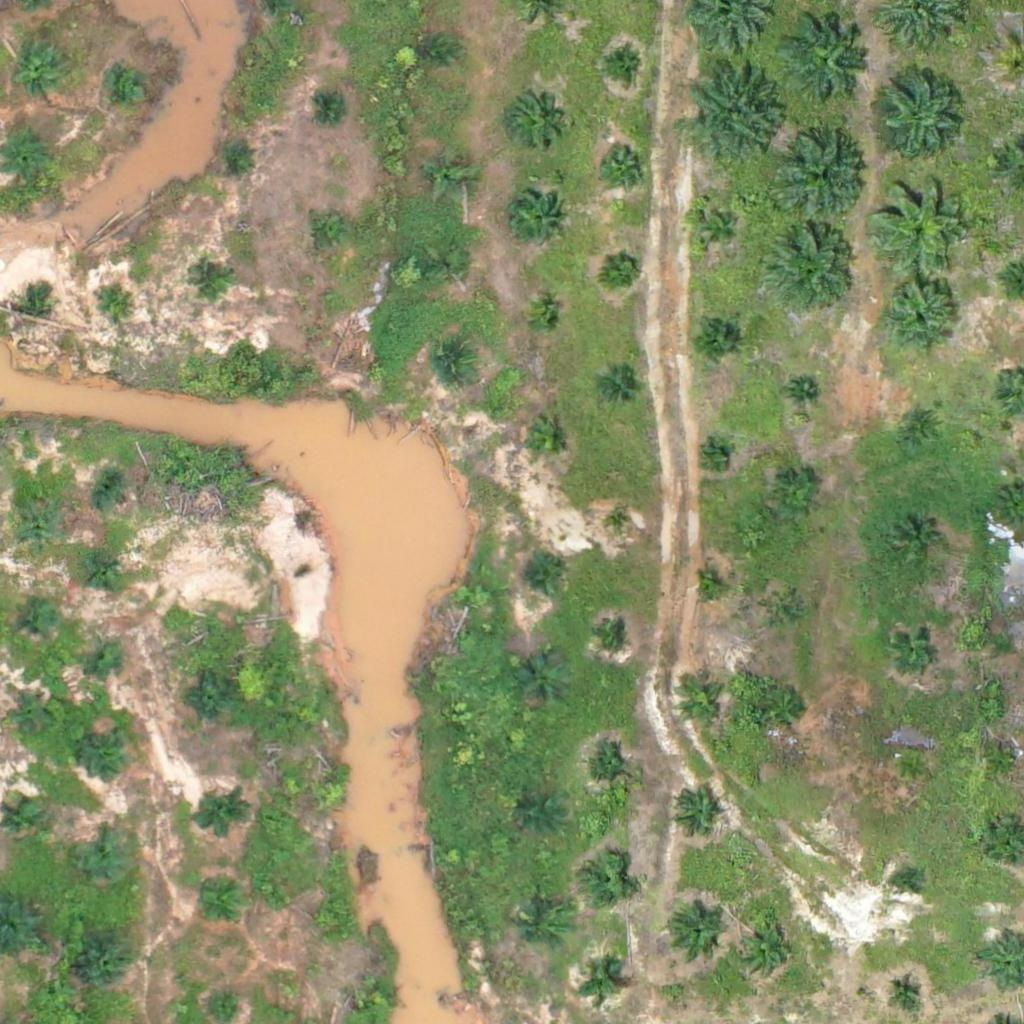Kelapa_Sawit: (869, 173, 969, 274), (687, 65, 787, 166), (876, 274, 964, 362), (767, 223, 855, 311), (779, 131, 867, 219), (786, 18, 874, 106), (876, 63, 963, 151), (75, 829, 138, 892), (733, 918, 796, 981), (506, 189, 568, 252), (667, 900, 729, 963), (82, 936, 132, 987), (763, 683, 813, 734), (509, 92, 559, 143), (676, 677, 726, 728), (522, 416, 572, 467), (425, 149, 475, 200), (83, 727, 133, 777), (15, 47, 65, 97), (1, 133, 51, 183), (584, 748, 634, 798), (582, 857, 632, 907), (671, 790, 721, 840), (196, 791, 246, 841), (194, 881, 244, 931), (891, 623, 941, 673), (891, 516, 941, 566), (898, 402, 948, 452), (771, 472, 821, 522), (690, 312, 740, 362), (518, 656, 568, 706), (187, 676, 237, 726), (693, 203, 743, 253), (598, 139, 648, 189), (520, 907, 570, 957), (581, 962, 619, 1000), (305, 900, 343, 938), (311, 775, 349, 813), (522, 557, 560, 595), (415, 34, 453, 72), (89, 635, 127, 673), (89, 548, 127, 586), (88, 473, 126, 511), (108, 71, 145, 109), (888, 973, 925, 1011), (359, 975, 396, 1013), (892, 749, 930, 786), (766, 594, 804, 631), (525, 301, 563, 338), (522, 795, 559, 833), (603, 45, 640, 83), (315, 89, 353, 126), (191, 264, 228, 302), (432, 247, 470, 284), (605, 249, 642, 287), (95, 288, 132, 326), (17, 510, 54, 548), (22, 602, 59, 640), (12, 698, 49, 736), (985, 743, 1022, 781), (601, 373, 638, 410), (433, 345, 470, 382), (213, 137, 250, 174), (310, 215, 347, 252), (3, 802, 40, 839), (18, 294, 43, 320), (894, 870, 919, 895), (702, 443, 727, 468), (695, 573, 720, 598), (607, 512, 632, 537), (601, 624, 626, 649), (790, 379, 814, 404)
